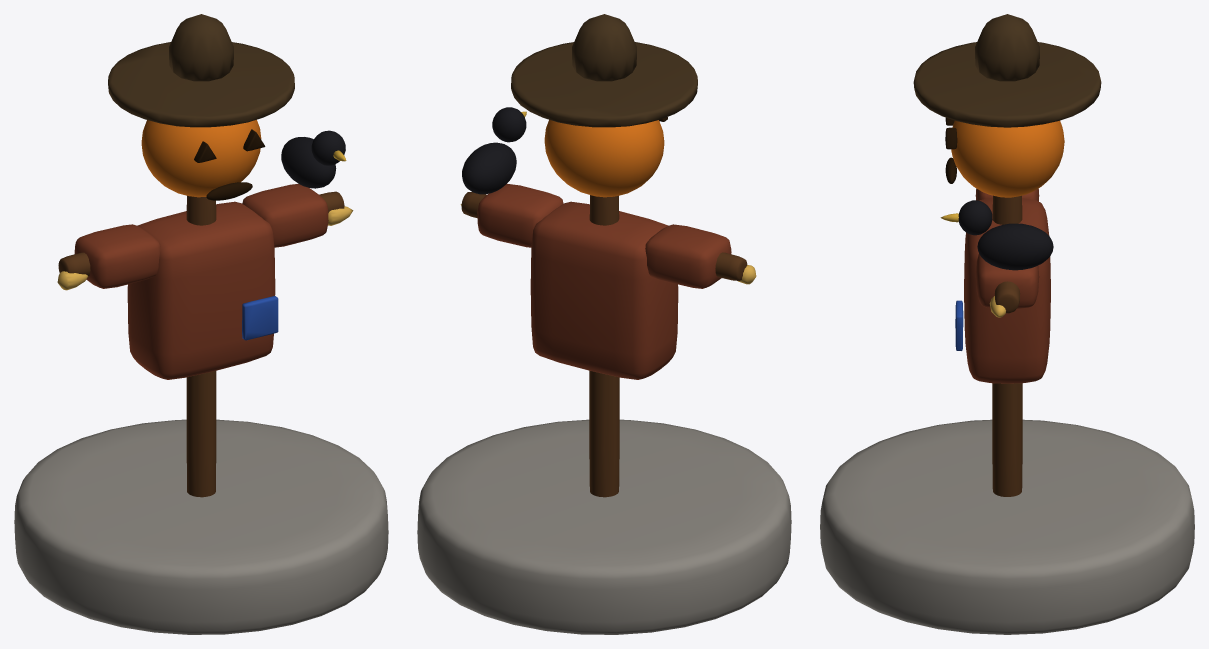
The model's file is Vogelscheuche.fbx.
3 renders of one model, left to right at view 1: azimuth 30°, elevation 25°; view 2: azimuth 150°, elevation 25°; view 3: azimuth 270°, elevation 25°, orthographic.
Parts seen in each view (by area): view 1: Vogelscheuche; view 2: Vogelscheuche; view 3: Vogelscheuche.
Part boxes in pixels (x1,y1,x2,y2): Vogelscheuche: [14, 14, 388, 634]; Vogelscheuche: [417, 14, 791, 634]; Vogelscheuche: [820, 14, 1194, 634].
Size of the model in its own units: 0.9347 by 1.51 by 0.9347.
